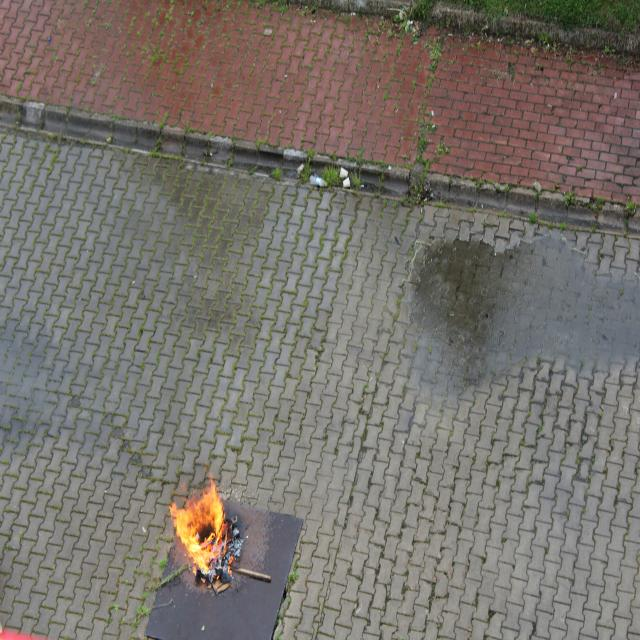fire: (169, 471, 233, 582)
